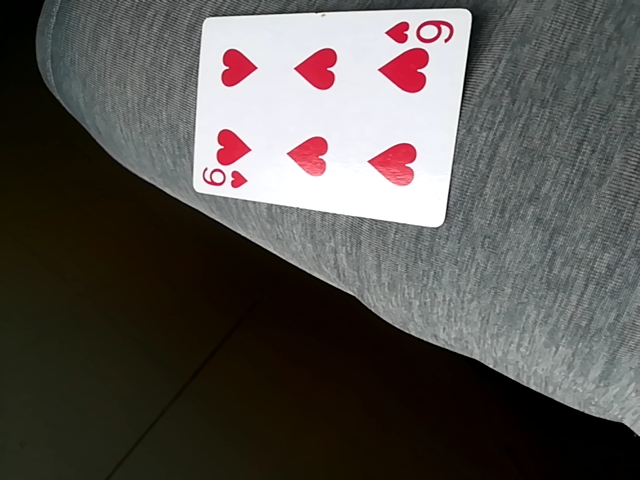hx 6: (192, 8, 467, 229)
